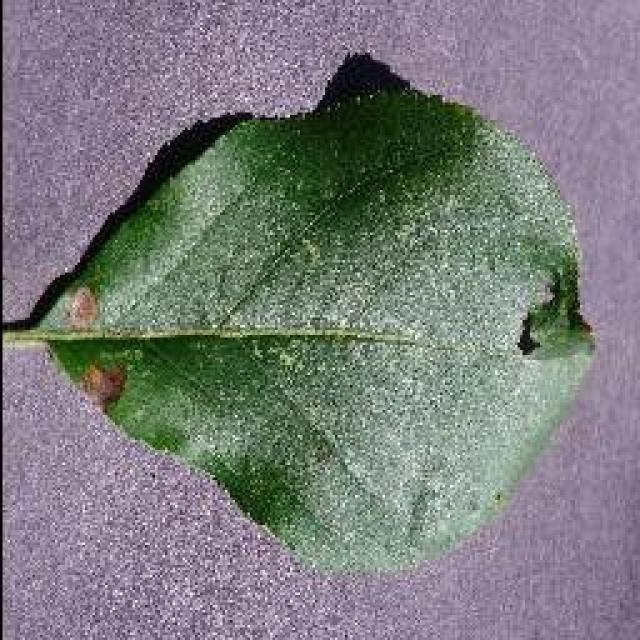apple scab disease: (8, 47, 598, 575)
